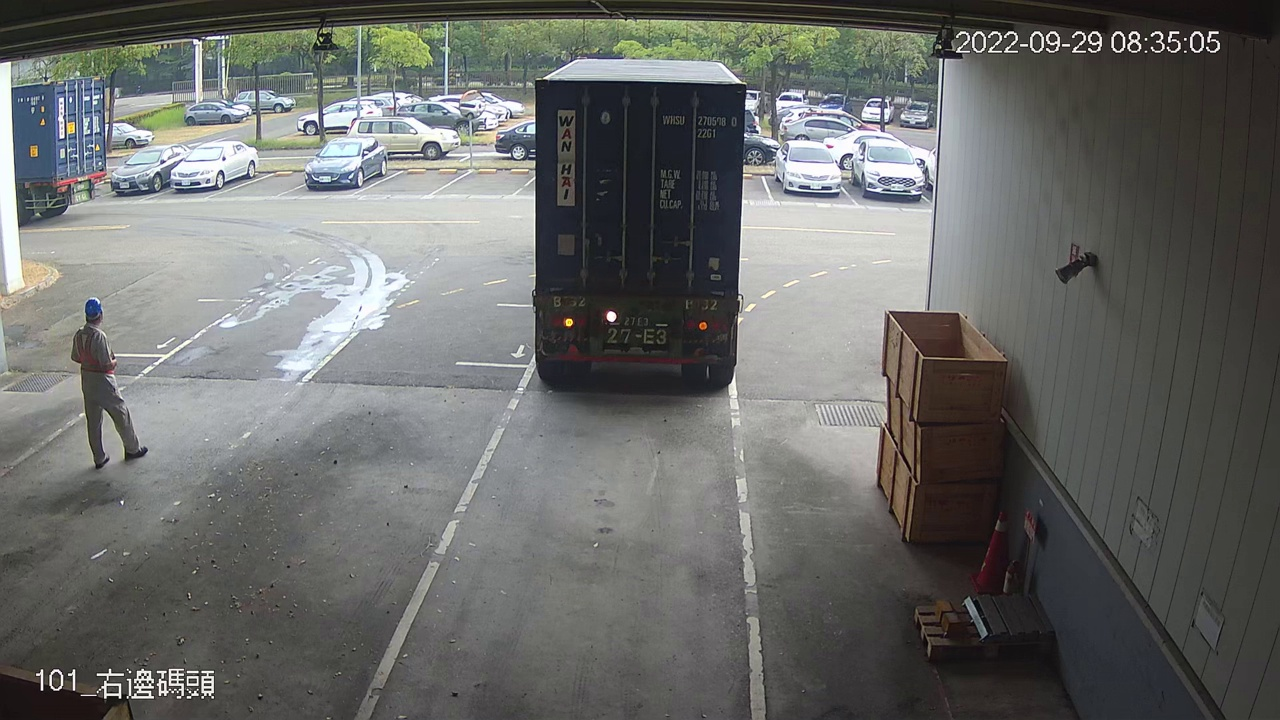container: (658, 110, 740, 145)
